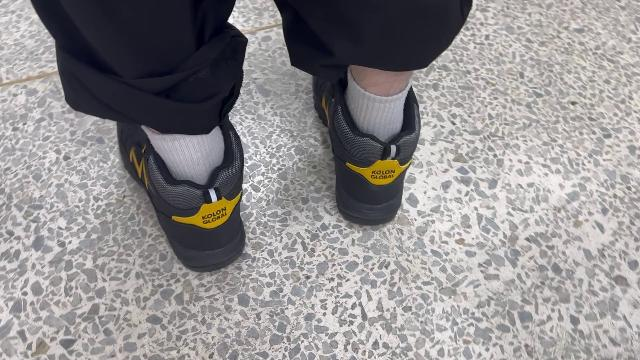shoe_worn: (116, 119, 248, 269), (308, 67, 425, 231)
